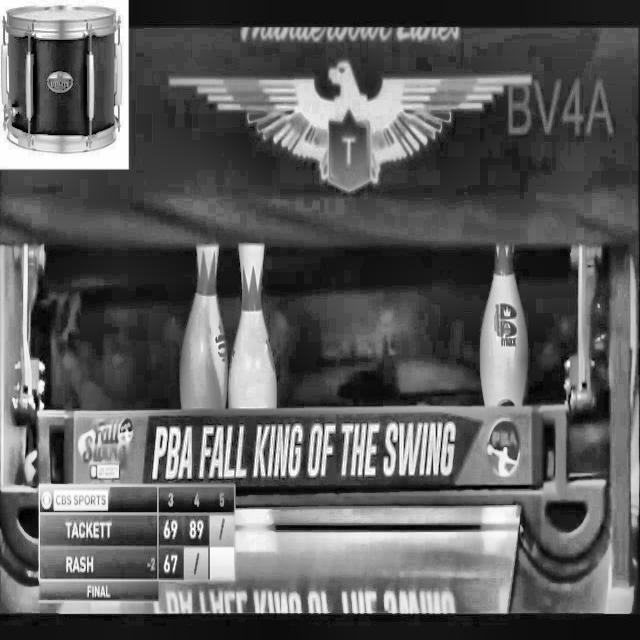bowling-pins: (180, 244, 228, 409), (228, 244, 276, 408), (481, 243, 528, 407)
sweep board: (37, 408, 544, 491)
